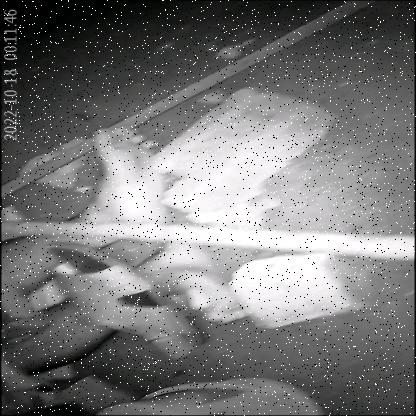leg: (25, 118, 172, 248), (119, 240, 274, 324)
